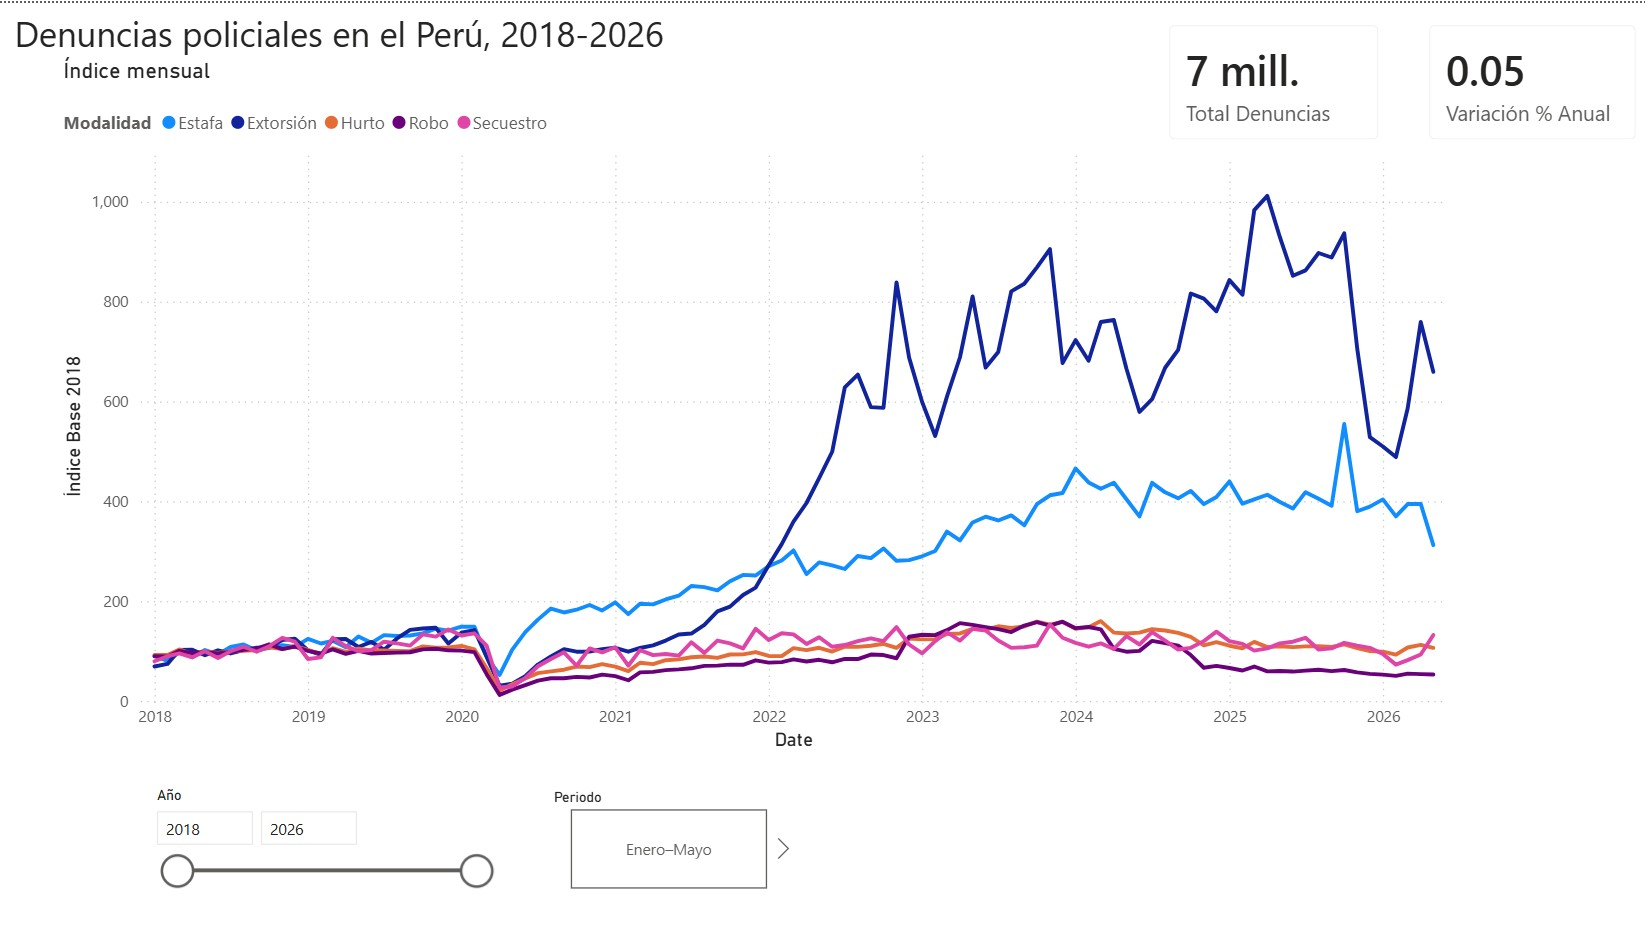

This screenshot's page, from the dashboard's own definition file:
{"tool":"powerbi","page":{"name":"Evolución ","canvas":[1280,720],"ordinal":0},"visuals":[{"type":"textbox","box":[10.1,0,581.6,63.1],"z":0},{"type":"lineChart","title":"Índice mensual ","fields":{"Y":["_Medidas.Índice Base 2018"],"Series":["Dim Modalidad.Modalidad"],"Category":["Calendario.Date"]},"box":[47.6,41.6,1076.7,538.7],"z":1000},{"type":"cardVisual","fields":{"Data":["_Medidas.Total Denuncias"]},"box":[886.2,0,195.2,122.1],"z":2000},{"type":"cardVisual","fields":{"Data":["_Medidas.Variación % Anual"]},"box":[1086.1,0,193.9,122.1],"z":3000},{"type":"slicer","fields":{"Values":["Calendario.Año"]},"box":[111.4,597.7,279.7,89.9],"z":4000},{"type":"slicer","fields":{"Values":["Denuncias.Periodo"]},"box":[416.6,599.1,200.6,88.6],"z":5000}]}

Visuals, with their boxes in screenshot pixels (x1, y1, x2, y2), scaled from the page's 1280x720 canvas onto the 1645x934 screenshot:
textbox: rect(13, 0, 760, 82)
"Índice mensual " lineChart: rect(61, 54, 1445, 753)
cardVisual - _Medidas.Total Denuncias: rect(1139, 0, 1390, 158)
cardVisual - _Medidas.Variación % Anual: rect(1396, 0, 1644, 158)
slicer - Calendario.Año: rect(143, 775, 503, 892)
slicer - Denuncias.Periodo: rect(535, 777, 793, 892)
